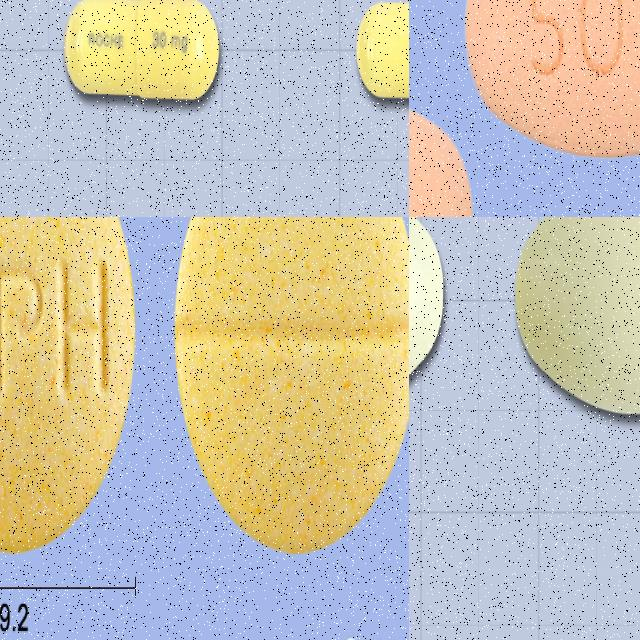Doxycycline Tab- Youngpoong: (175, 217, 409, 554), (0, 217, 136, 555)
Levona: (464, 0, 640, 155)
ONG Vaginal Soft Cap: (514, 217, 640, 416)
Tenofobell Tab: (64, 0, 219, 101), (356, 0, 409, 102)
